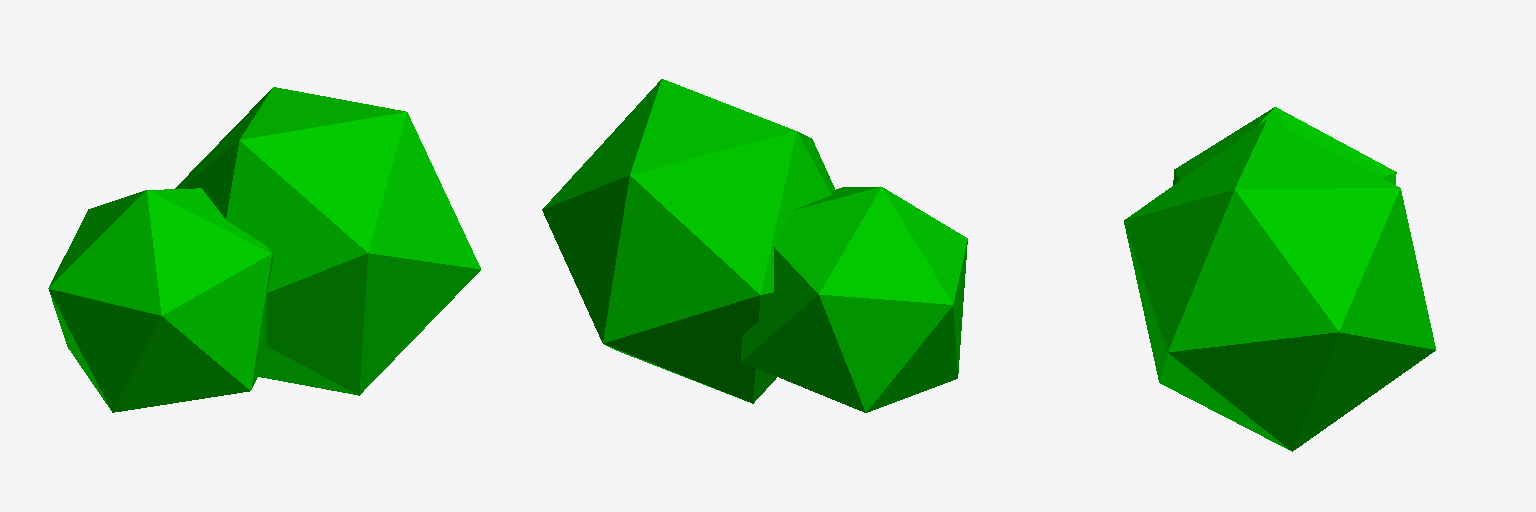
Rendered from bush1.obj.
The picture shows the model from 3 angles: view 1: azimuth 30°, elevation 25°; view 2: azimuth 150°, elevation 25°; view 3: azimuth 270°, elevation 25°; orthographic projection.
Parts seen in each view (by area): view 1: bush.000_Circle.000; view 2: bush.000_Circle.000; view 3: bush.000_Circle.000.
Boxes of the visible parts, x1=… form: bush.000_Circle.000: x1=48, y1=87, x2=480, y2=412; bush.000_Circle.000: x1=542, y1=79, x2=967, y2=412; bush.000_Circle.000: x1=1124, y1=107, x2=1435, y2=451.
Bounding box in the file's own units: 2.01 × 1.26 × 1.38.